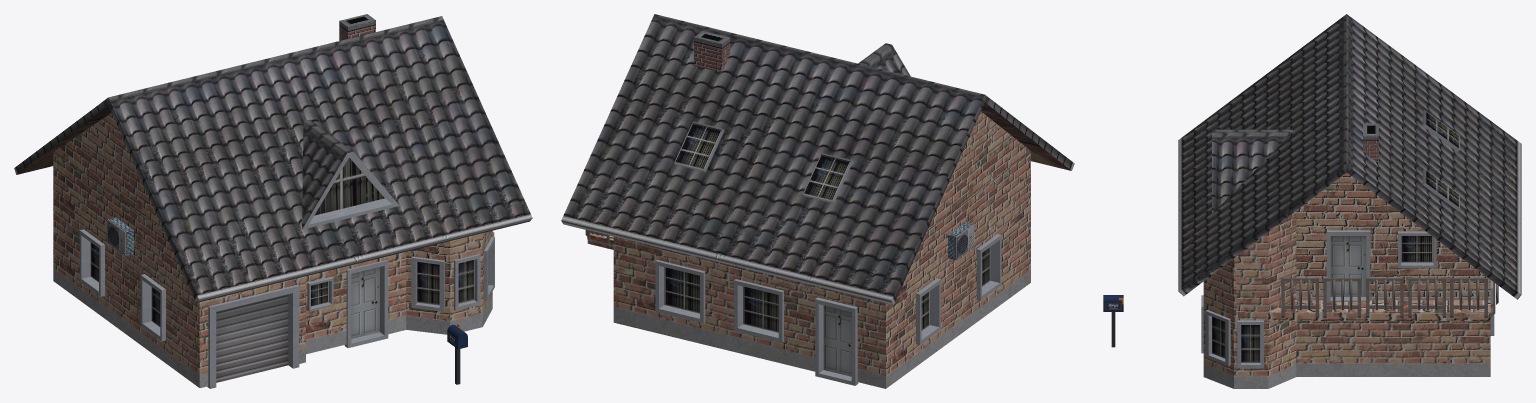
File: casa2-a.glb
The picture shows the model from 3 angles, left to right: view 1: azimuth 30°, elevation 25°; view 2: azimuth 150°, elevation 25°; view 3: azimuth 270°, elevation 25°; orthographic projection. The views are drawn at different scales.
Parts seen in each view (by area): view 1: Casa, CaixaCorreio; view 2: Casa; view 3: Casa, CaixaCorreio.
Part boxes in pixels (x1,y1,x2,y2): Casa: [14, 14, 532, 388]; CaixaCorreio: [447, 323, 467, 384]; Casa: [561, 14, 1074, 388]; Casa: [1178, 14, 1521, 388]; CaixaCorreio: [1103, 295, 1123, 347].
Size of the model in its own units: 8.84 by 6.38 by 10.33.
5 materials, 2 textured.
